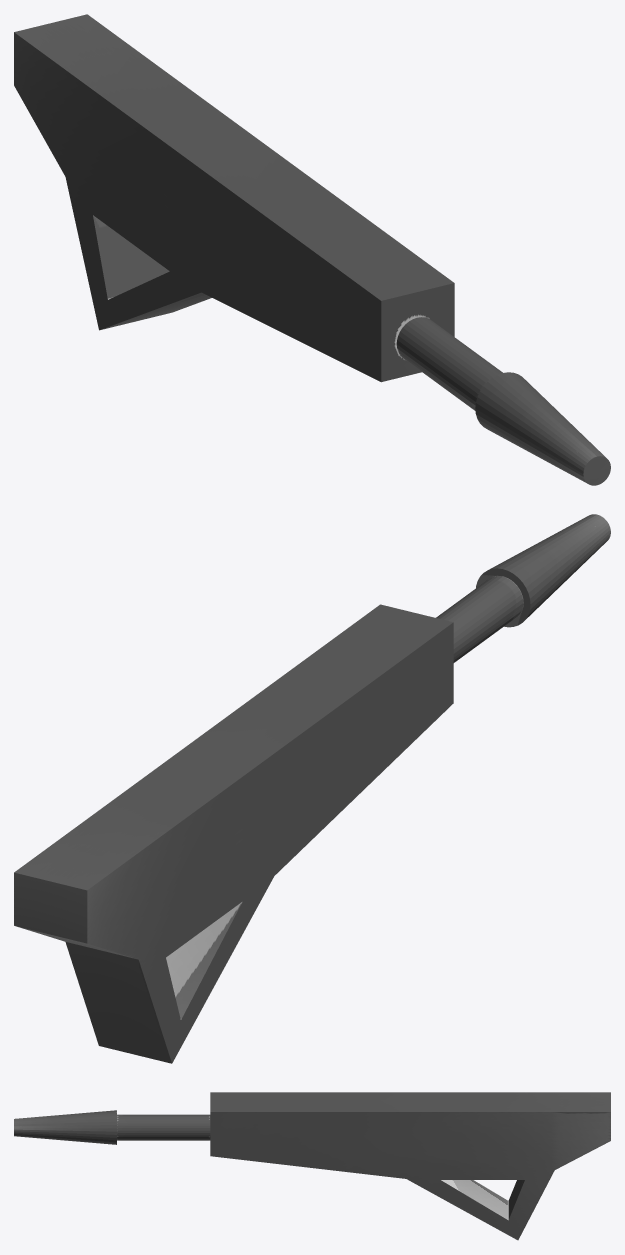
Rendered from gun.obj.
3 renders of one model, top to bottom at view 1: azimuth 30°, elevation 25°; view 2: azimuth 150°, elevation 25°; view 3: azimuth 270°, elevation 25°, orthographic. The views are drawn at different scales.
Visible parts, largest first — view 1: gun; view 2: gun; view 3: gun.
Boxes of the visible parts, bbox=[...] form: gun: bbox=[14, 14, 610, 485]; gun: bbox=[14, 514, 610, 1063]; gun: bbox=[14, 1092, 610, 1240].
Bounding box in the file's own units: 0.2825 × 0.8681 × 3.65.
